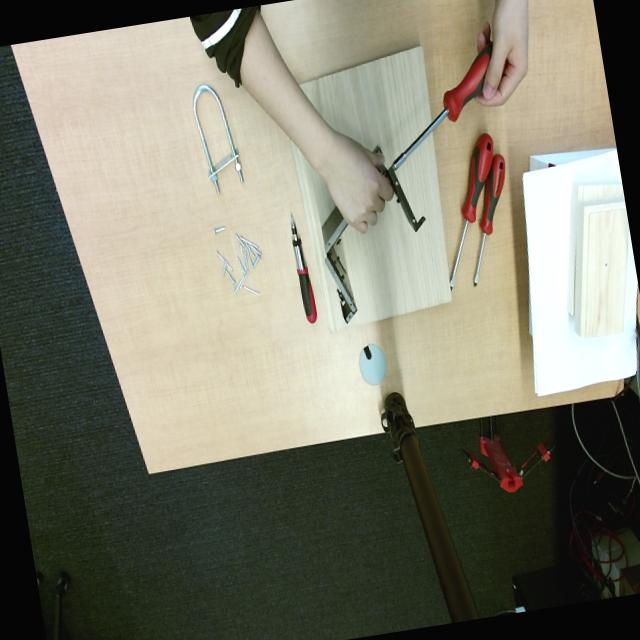screwdriver: (393, 43, 493, 171), (449, 134, 494, 288), (474, 154, 506, 286), (291, 217, 317, 324)
